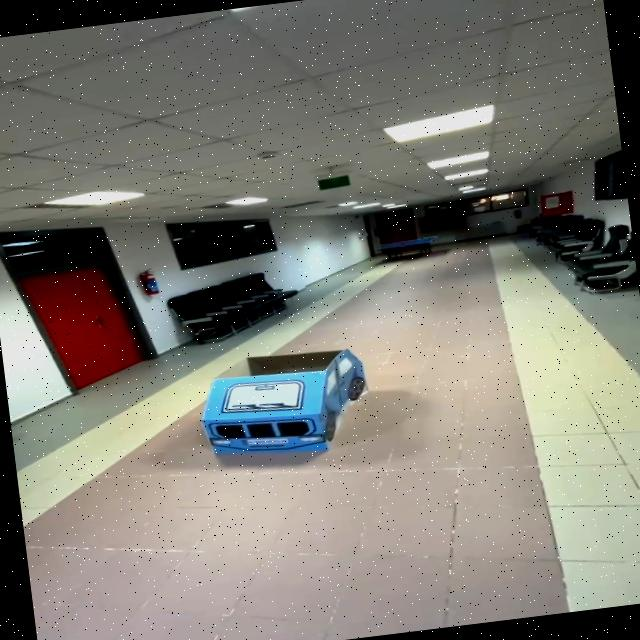blue_car: (164, 321, 419, 490)
